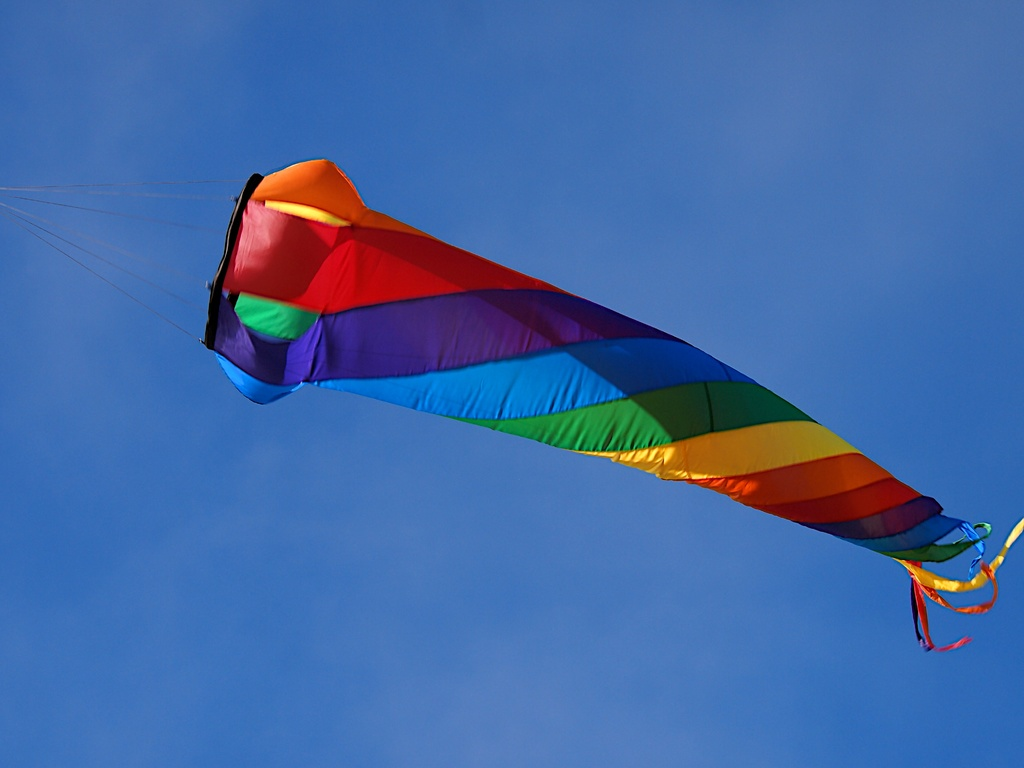kite: (197, 154, 1024, 658)
